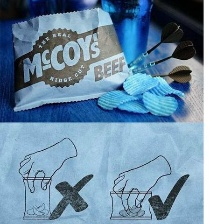snack: (7, 3, 140, 115)
